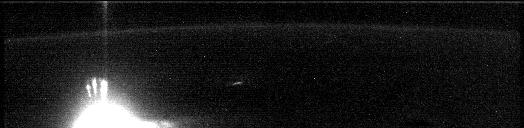positive: (81, 75, 114, 104)
